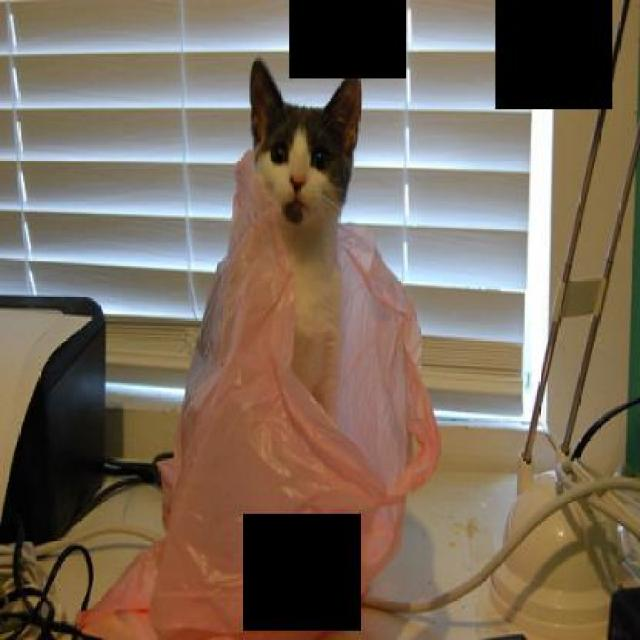plastic bag: (79, 137, 443, 638)
